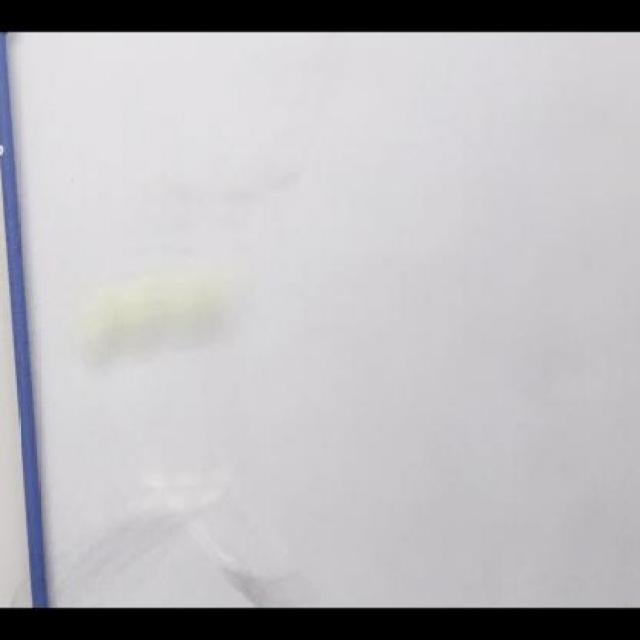baseball: (79, 262, 248, 368)
